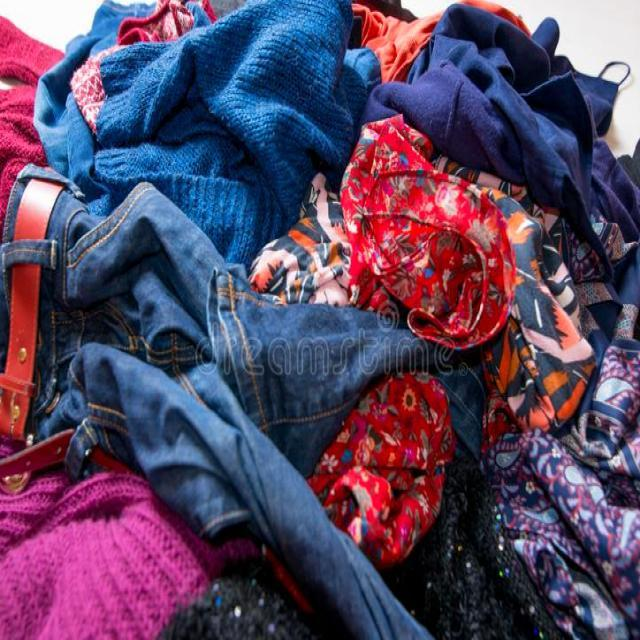clothes: (39, 70, 640, 640)
